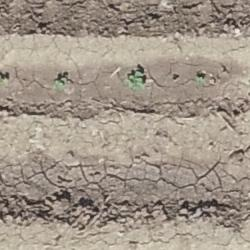cotton: (131, 78, 141, 88), (57, 79, 66, 86), (135, 73, 142, 82), (198, 76, 203, 82)
